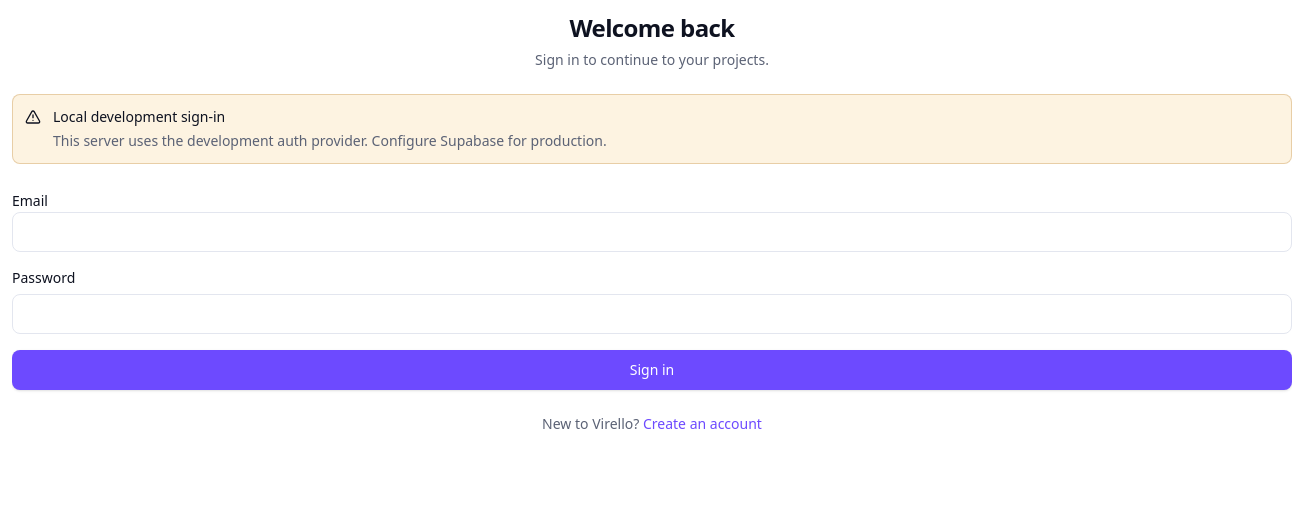
it: AuthForm › shows provider errors
In the field labelled "Email": (652, 232) [12, 212, 1292, 252], type "ada@example.com"
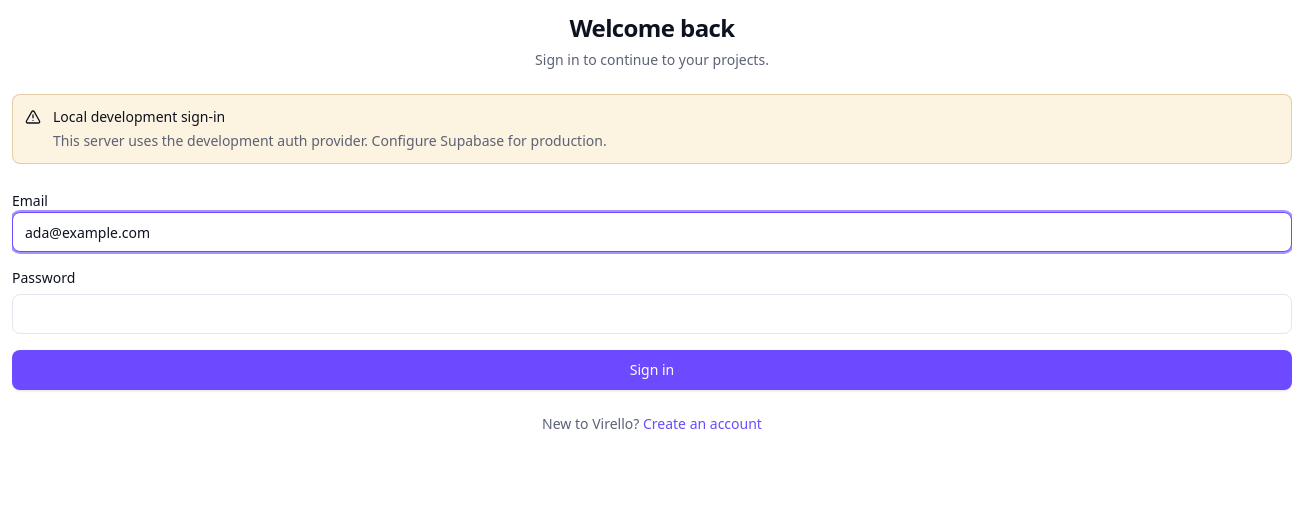
In the password field labelled "Password": (652, 314) [12, 294, 1292, 334], type "wrong-password"
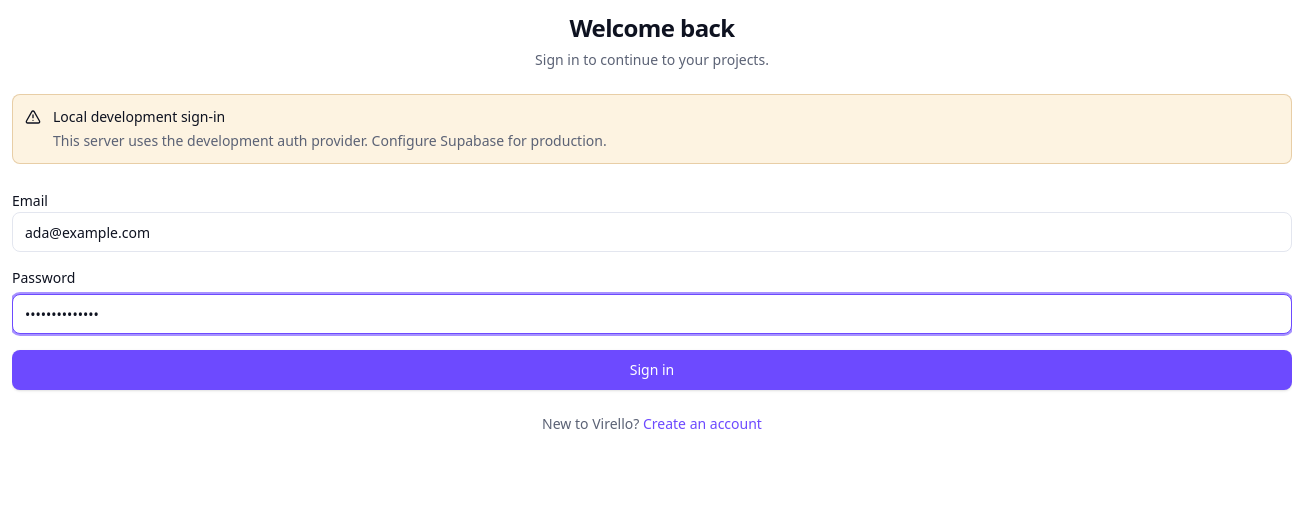
Click the button "Sign in": click(652, 370) [12, 350, 1292, 390]
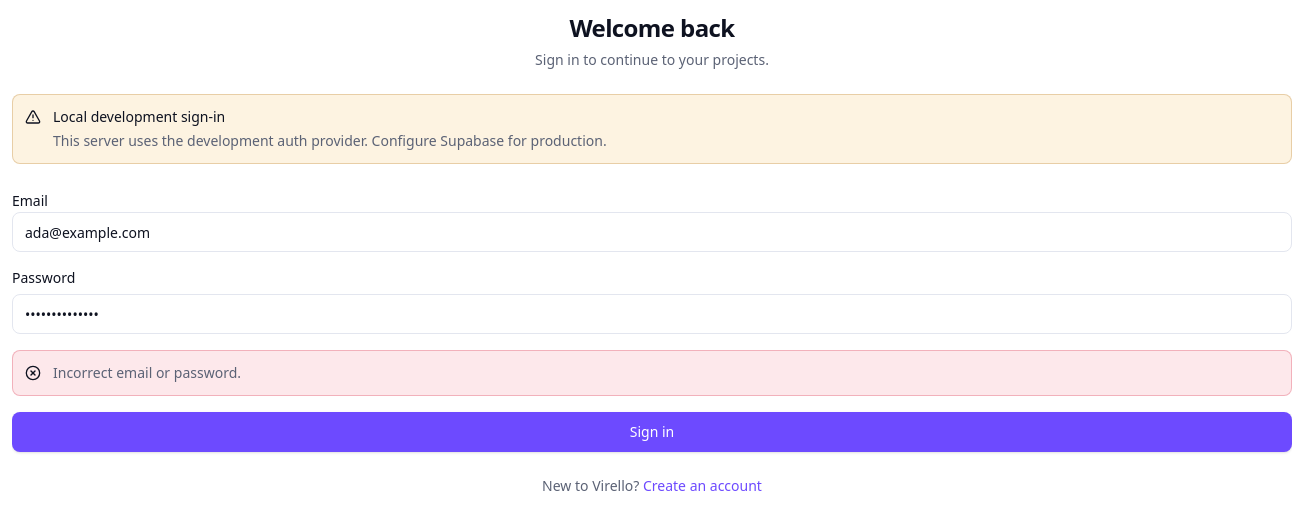
Check: the text "Incorrect email or password." is shown, box [53, 363, 241, 382]
